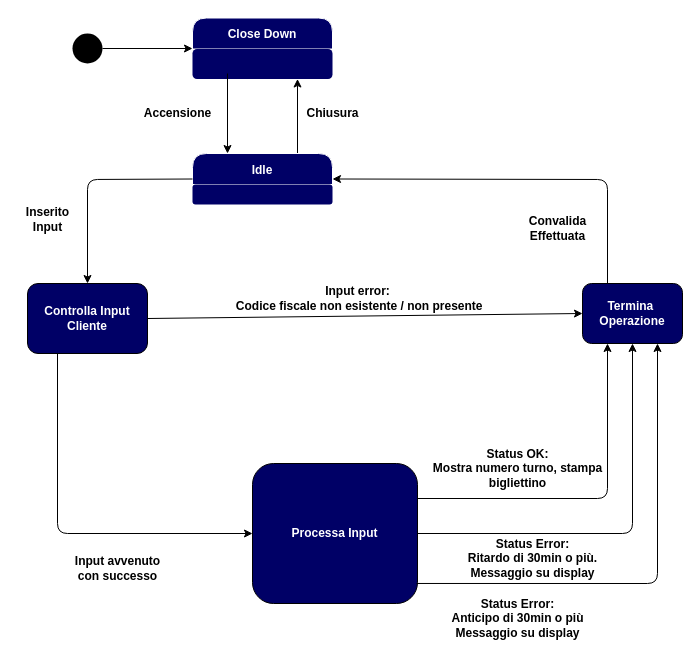
Image size: 700x660. Some labels were removed from this diagram. The centre of each missing label's shape, as x and y in pixels:
"Entry / Display System Down" goes at point (262, 63).
"Input C.F." goes at point (262, 194).
